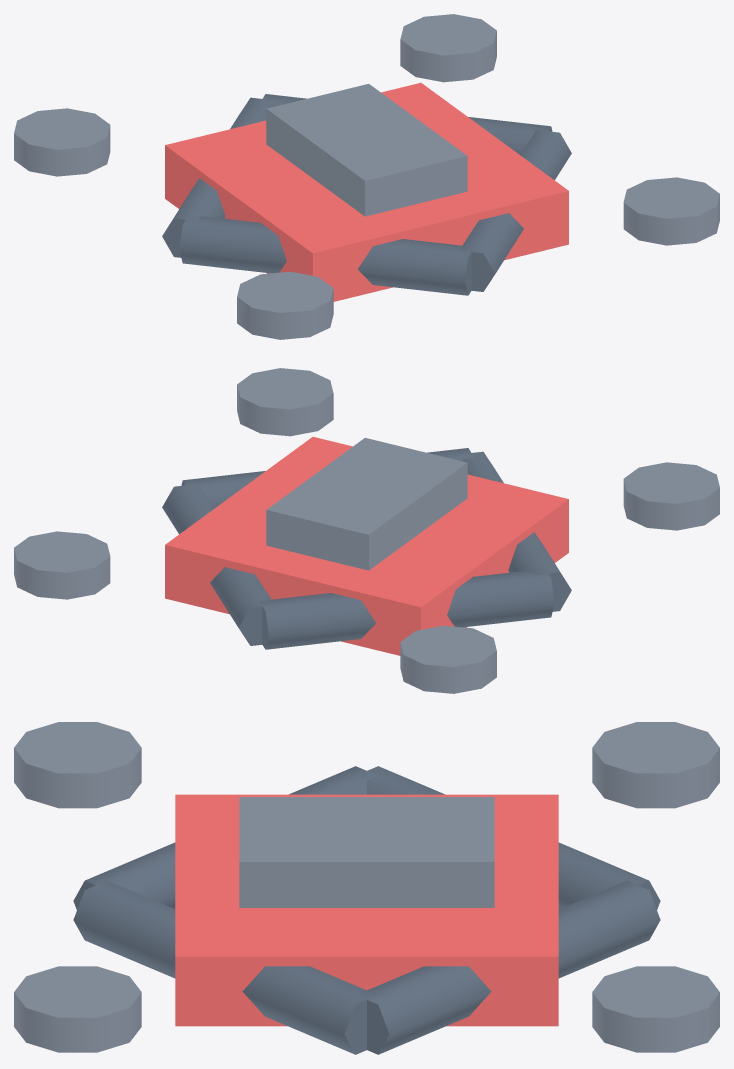
Rendered from fpv.glb.
3 renders of one model, top to bottom at view 1: azimuth 30°, elevation 25°; view 2: azimuth 150°, elevation 25°; view 3: azimuth 270°, elevation 25°, orthographic. The views are drawn at different scales.
Bounding box in the file's own units: 0.5477 × 0.1 × 0.5525.
